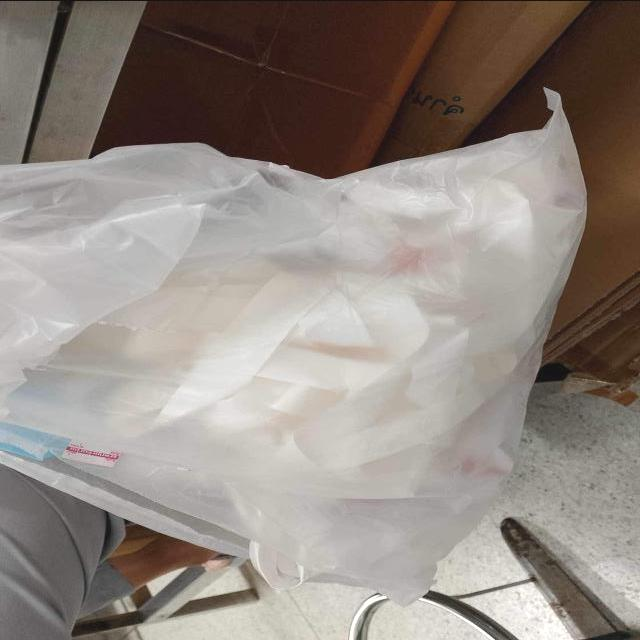General: (345, 513, 633, 638)
Infectious: (0, 85, 588, 606)
Sharps: (497, 514, 629, 638)
